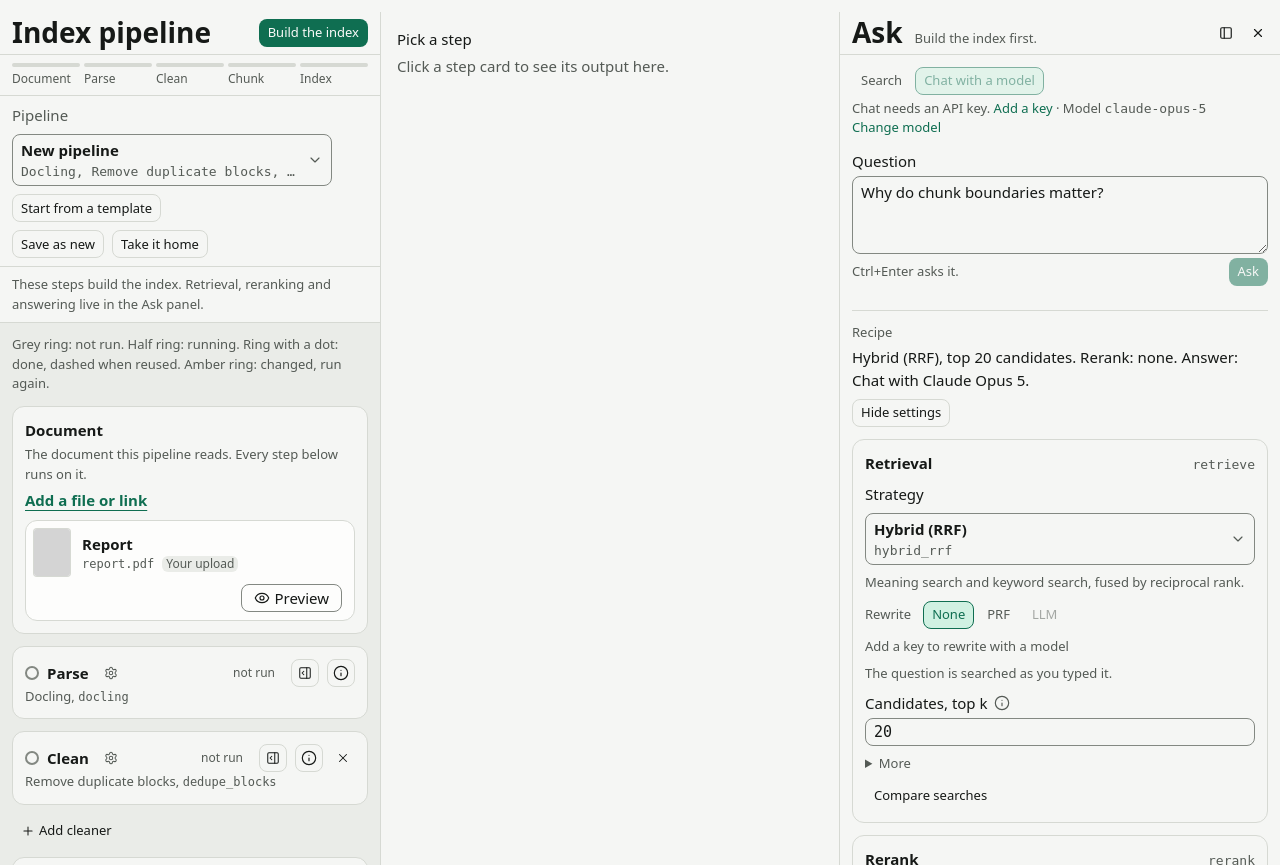
Test case: Ask with a chat card and no API key › a keyless Ask stops before Chat, and the notice shows in the panel (Review Focus 3)
Click the button "Build the index" at (313, 33), box [259,19,368,47]
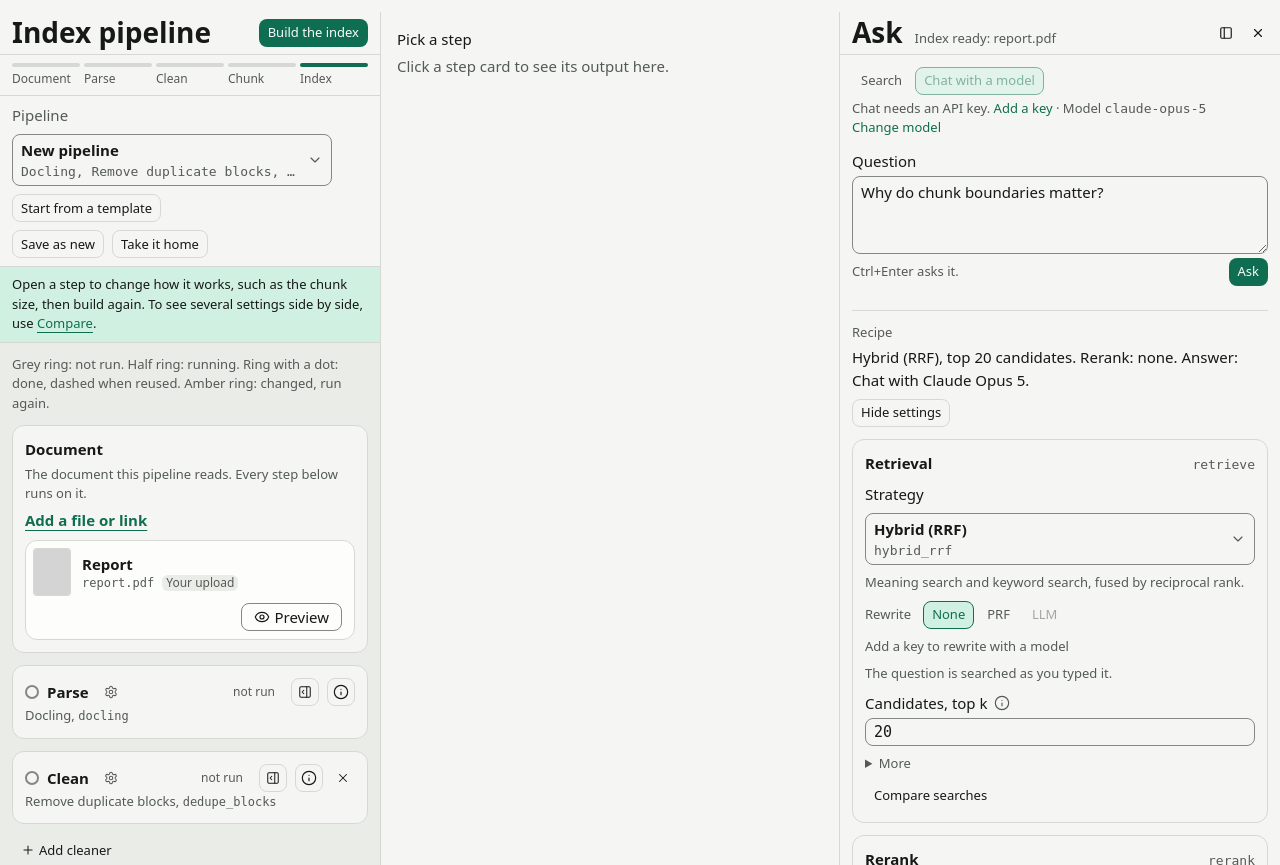
Expected: the button "Ask" is enabled
Click the button "Ask" at (1248, 272), box [1228,258,1268,286]
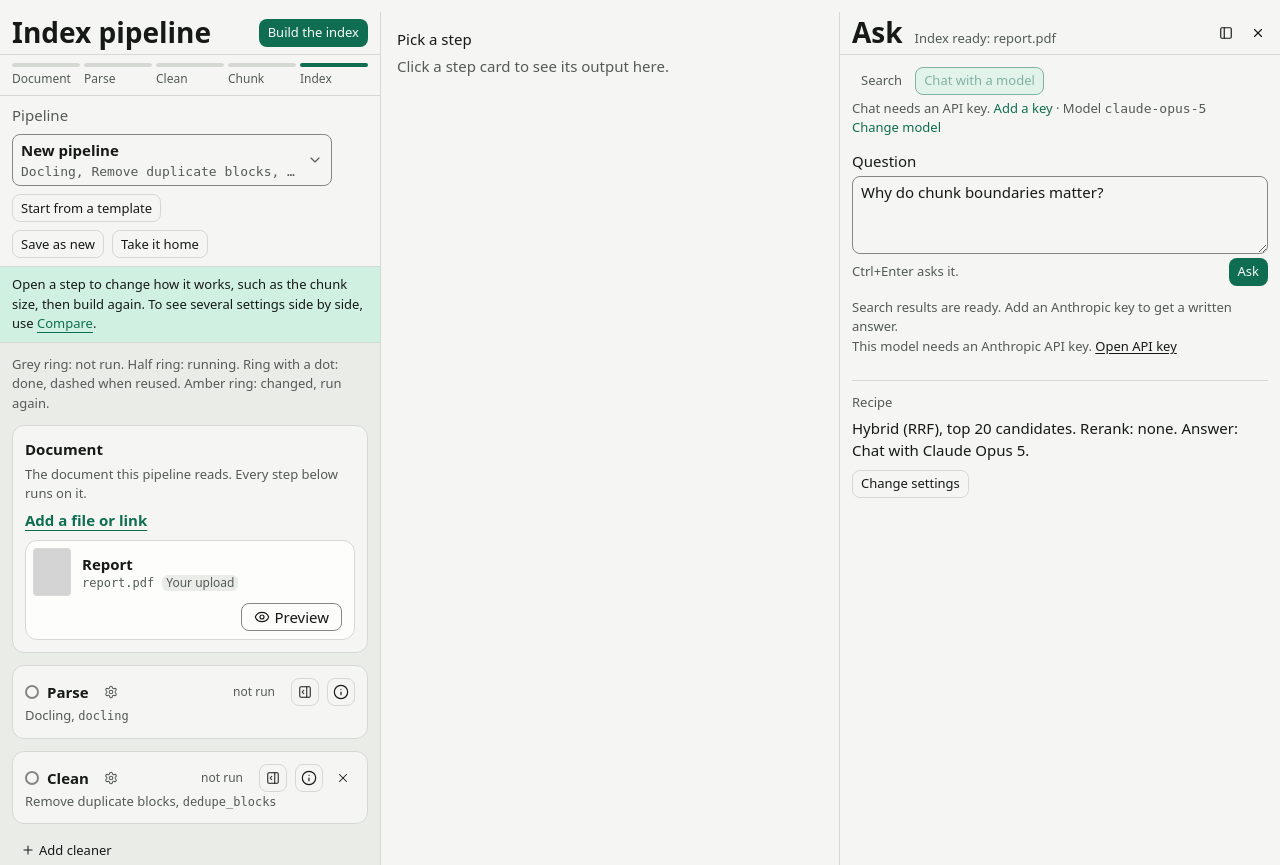
Expected: the element with test id "key-hint" is shown, [852,337,1177,356]
